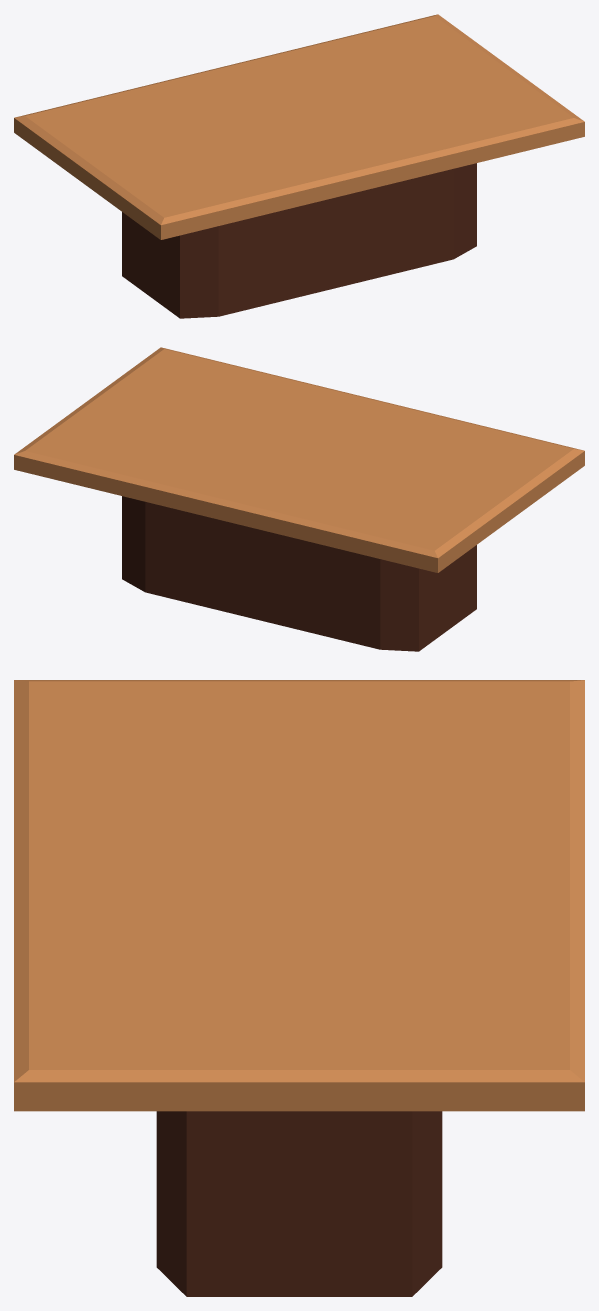
File: table.fbx
3 renders of one model, top to bottom at view 1: azimuth 30°, elevation 25°; view 2: azimuth 150°, elevation 25°; view 3: azimuth 270°, elevation 25°, orthographic. The views are drawn at different scales.
Parts seen in each view (by area): view 1: Cube, Cube.009; view 2: Cube, Cube.009; view 3: Cube, Cube.009.
Boxes of the visible parts, x1,y1,x2,y2 form: Cube: (14,14,584,239); Cube.009: (122,163,476,318); Cube: (14,347,584,572); Cube.009: (122,496,476,651); Cube: (14,680,584,1111); Cube.009: (156,1111,442,1296).
Size of the model in its own units: 1000 by 325 by 600.
